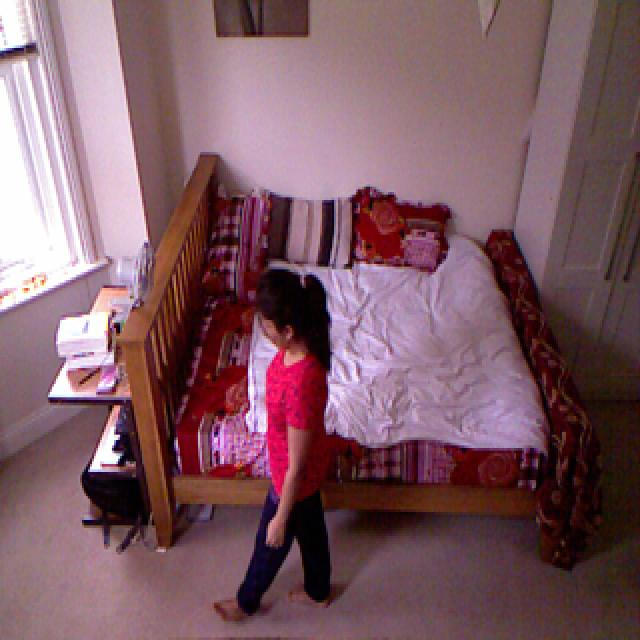standing: (238, 274, 342, 616)
